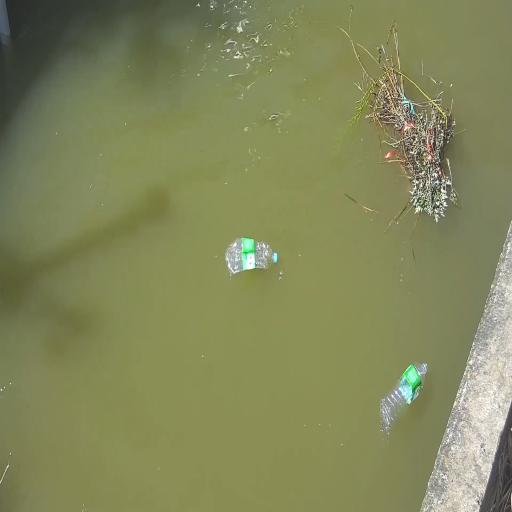plastic: (380, 364, 427, 434), (226, 238, 277, 275), (273, 253, 277, 263)
twig: (344, 24, 457, 222)
